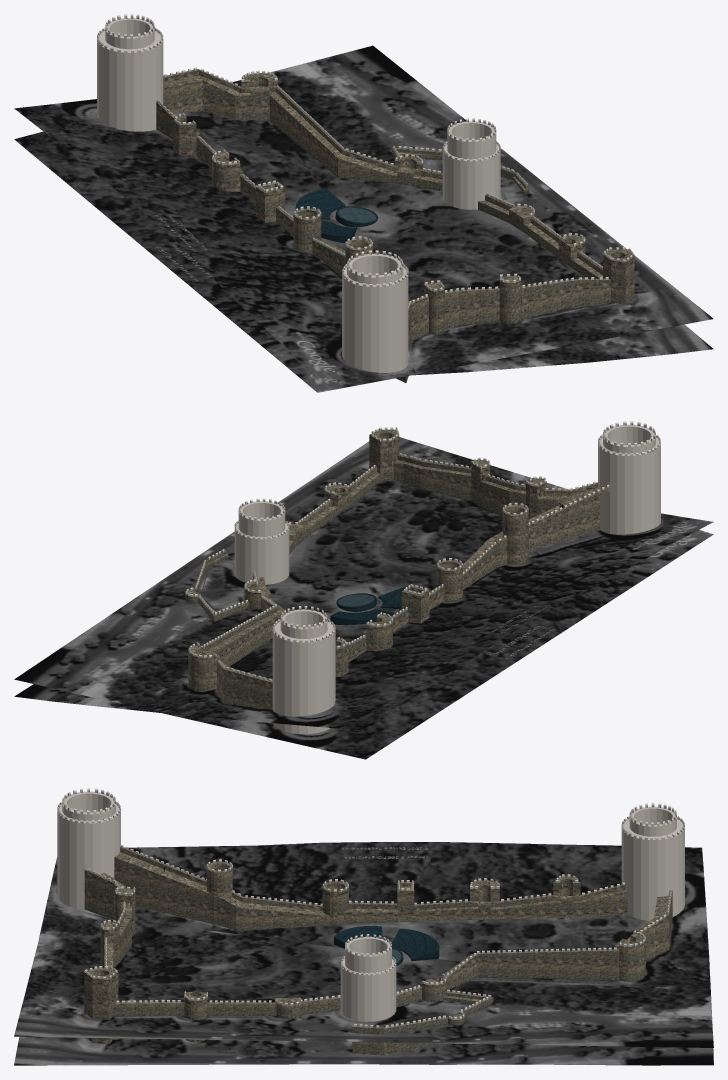
File: rumeli-hisari.glb
The picture shows the model from 3 angles, top to bottom: view 1: azimuth 30°, elevation 25°; view 2: azimuth 150°, elevation 25°; view 3: azimuth 270°, elevation 25°; orthographic projection. The views are drawn at different scales.
Parts seen in each view (by area): view 1: mesh_417_ROOT__Google_Earth_Snapshot_Location Snapshot_83_83, mesh_530_ROOT__Google_Earth_Terrain_Location Terrain_83_83_8, mesh_0_ROOT_Layer0_138_133_118_ds, mesh_362_ROOT__Component_43_Layer0, mesh_474_ROOT__Component_1207_Layer0, mesh_419_ROOT__Component_630_Layer0, mesh_1_ROOT_Layer0_99_95_85_ss, mesh_506_ROOT__Component_1207__Component_1278_Layer0; view 2: mesh_417_ROOT__Google_Earth_Snapshot_Location Snapshot_83_83, mesh_530_ROOT__Google_Earth_Terrain_Location Terrain_83_83_8, mesh_0_ROOT_Layer0_138_133_118_ds, mesh_362_ROOT__Component_43_Layer0, mesh_474_ROOT__Component_1207_Layer0, mesh_419_ROOT__Component_630_Layer0, mesh_1_ROOT_Layer0_99_95_85_ss, mesh_506_ROOT__Component_1207__Component_1278_Layer0; view 3: mesh_530_ROOT__Google_Earth_Terrain_Location Terrain_83_83_8, mesh_417_ROOT__Google_Earth_Snapshot_Location Snapshot_83_83, mesh_0_ROOT_Layer0_138_133_118_ds, mesh_362_ROOT__Component_43_Layer0, mesh_474_ROOT__Component_1207_Layer0, mesh_419_ROOT__Component_630_Layer0, mesh_1_ROOT_Layer0_99_95_85_ss, mesh_506_ROOT__Component_1207__Component_1278_Layer0.
Part boxes in pixels (<box>): mesh_417_ROOT__Google_Earth_Snapshot_Location Snapshot_83_83: <box>14,45,713,392</box>; mesh_530_ROOT__Google_Earth_Terrain_Location Terrain_83_83_8: <box>14,99,713,379</box>; mesh_0_ROOT_Layer0_138_133_118_ds: <box>156,69,634,382</box>; mesh_362_ROOT__Component_43_Layer0: <box>342,253,408,377</box>; mesh_474_ROOT__Component_1207_Layer0: <box>97,28,163,131</box>; mesh_419_ROOT__Component_630_Layer0: <box>442,121,500,209</box>; mesh_1_ROOT_Layer0_99_95_85_ss: <box>295,188,378,243</box>; mesh_506_ROOT__Component_1207__Component_1278_Layer0: <box>105,18,154,49</box>; mesh_417_ROOT__Google_Earth_Snapshot_Location Snapshot_83_83: <box>14,437,713,759</box>; mesh_530_ROOT__Google_Earth_Terrain_Location Terrain_83_83_8: <box>14,513,713,730</box>; mesh_0_ROOT_Layer0_138_133_118_ds: <box>185,429,609,709</box>; mesh_362_ROOT__Component_43_Layer0: <box>598,424,660,534</box>; mesh_474_ROOT__Component_1207_Layer0: <box>272,619,335,734</box>; mesh_419_ROOT__Component_630_Layer0: <box>234,501,289,584</box>; mesh_1_ROOT_Layer0_99_95_85_ss: <box>330,585,410,625</box>; mesh_506_ROOT__Component_1207__Component_1278_Layer0: <box>280,609,327,638</box>; mesh_530_ROOT__Google_Earth_Terrain_Location Terrain_83_83_8: <box>14,842,713,1065</box>; mesh_417_ROOT__Google_Earth_Snapshot_Location Snapshot_83_83: <box>14,905,713,1047</box>; mesh_0_ROOT_Layer0_138_133_118_ds: <box>84,847,672,1055</box>; mesh_362_ROOT__Component_43_Layer0: <box>57,791,120,909</box>; mesh_474_ROOT__Component_1207_Layer0: <box>621,816,684,920</box>; mesh_419_ROOT__Component_630_Layer0: <box>340,936,396,1021</box>; mesh_1_ROOT_Layer0_99_95_85_ss: <box>334,926,439,965</box>; mesh_506_ROOT__Component_1207__Component_1278_Layer0: <box>629,806,676,836</box>.
Bounding box in the file's own units: 171144 × 58353 × 272530.
13 materials, 6 textured.
